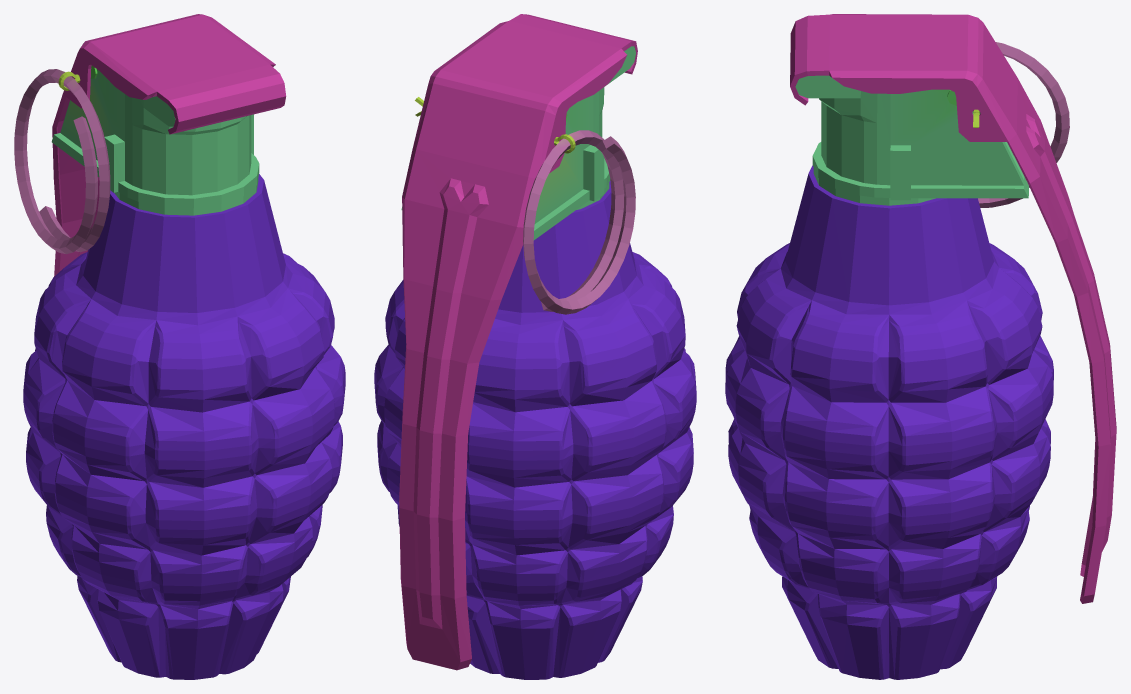
3 views of the same model, side by side, from view 1: azimuth 30°, elevation 25°; view 2: azimuth 150°, elevation 25°; view 3: azimuth 270°, elevation 25° (orthographic). The views are drawn at different scales.
Parts seen in each view (by area): view 1: world; view 2: world; view 3: world.
Boxes of the visible parts, x1,y1,x2,y2 form: world: (14,14,345,679); world: (374,14,696,679); world: (725,14,1116,679).
Size of the model in its own units: 0.492 by 1 by 0.5858.
